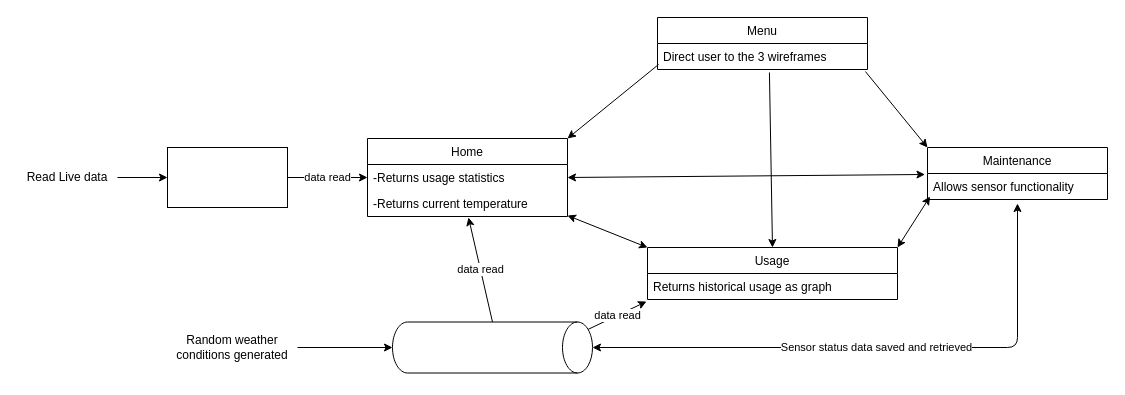
The diagram is 1125 pixels wide and 395 high, and some of its shapes have lost their labels. The centre of each missing label's shape, as x and y in pixels:
"Open weather API" belongs at (x=227, y=177).
"System Database" belongs at (x=492, y=347).
